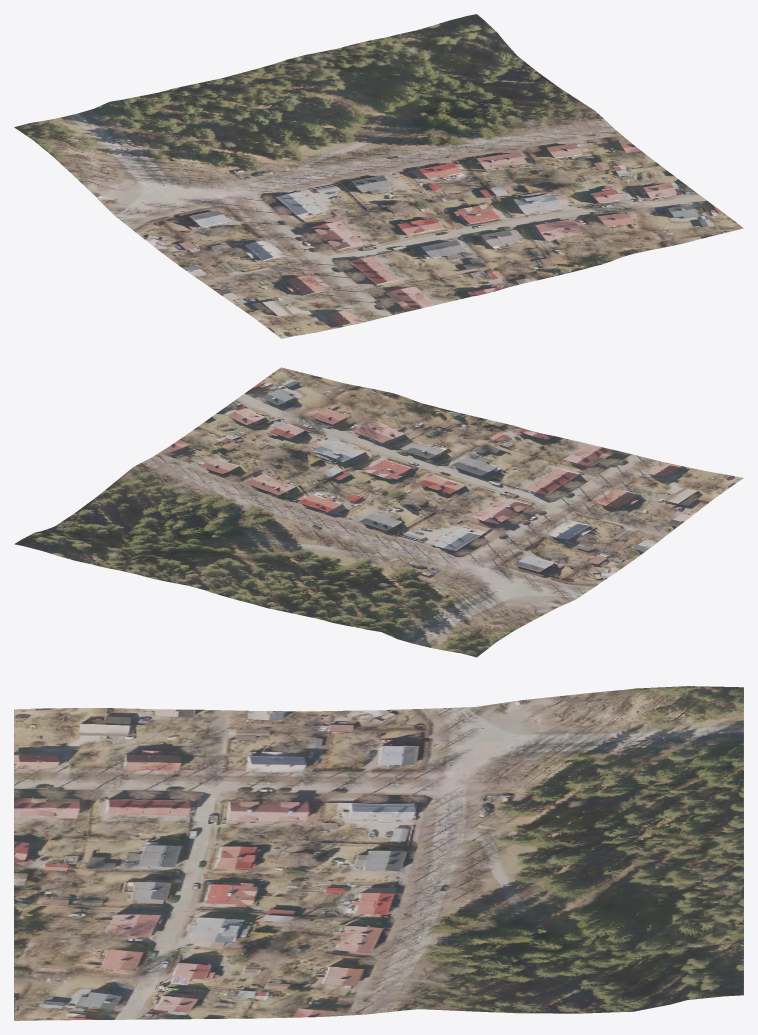
The model's file is CM_Terrain_24489025_6822046.fbx.
The picture shows the model from 3 angles, top to bottom: view 1: azimuth 30°, elevation 25°; view 2: azimuth 150°, elevation 25°; view 3: azimuth 270°, elevation 25°; orthographic projection. The views are drawn at different scales.
Parts seen in each view (by area): view 1: CM_Terrain_24489025_6822046_LOD0; view 2: CM_Terrain_24489025_6822046_LOD0; view 3: CM_Terrain_24489025_6822046_LOD0.
Part boxes in pixels (x1,y1,x2,y2): CM_Terrain_24489025_6822046_LOD0: (14,14,743,338); CM_Terrain_24489025_6822046_LOD0: (14,367,743,657); CM_Terrain_24489025_6822046_LOD0: (14,686,743,1020).
Size of what is drawn, in the model's own units: 205 by 9.91 by 205.
